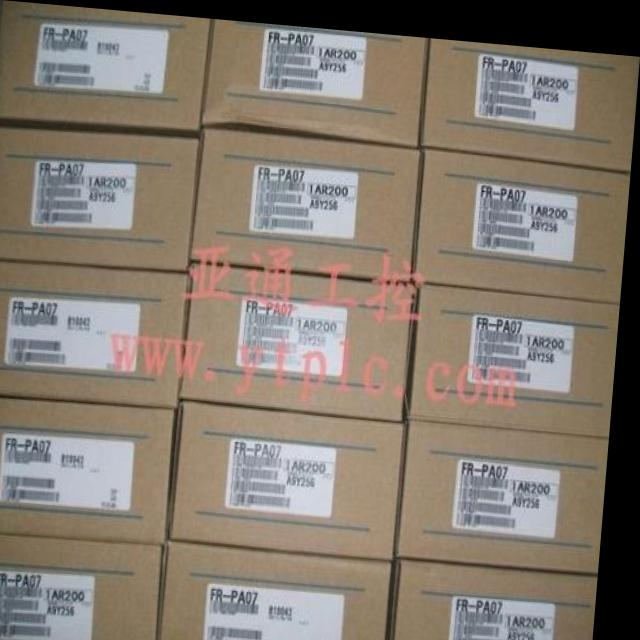box: (174, 396, 412, 552), (185, 260, 422, 412), (195, 127, 422, 275), (416, 141, 632, 293), (411, 276, 623, 426), (406, 412, 614, 563), (201, 15, 428, 144), (0, 259, 197, 406), (0, 127, 201, 268), (420, 32, 639, 161), (0, 2, 210, 128), (0, 395, 183, 539), (168, 536, 401, 640), (400, 549, 607, 640), (0, 533, 172, 640)
